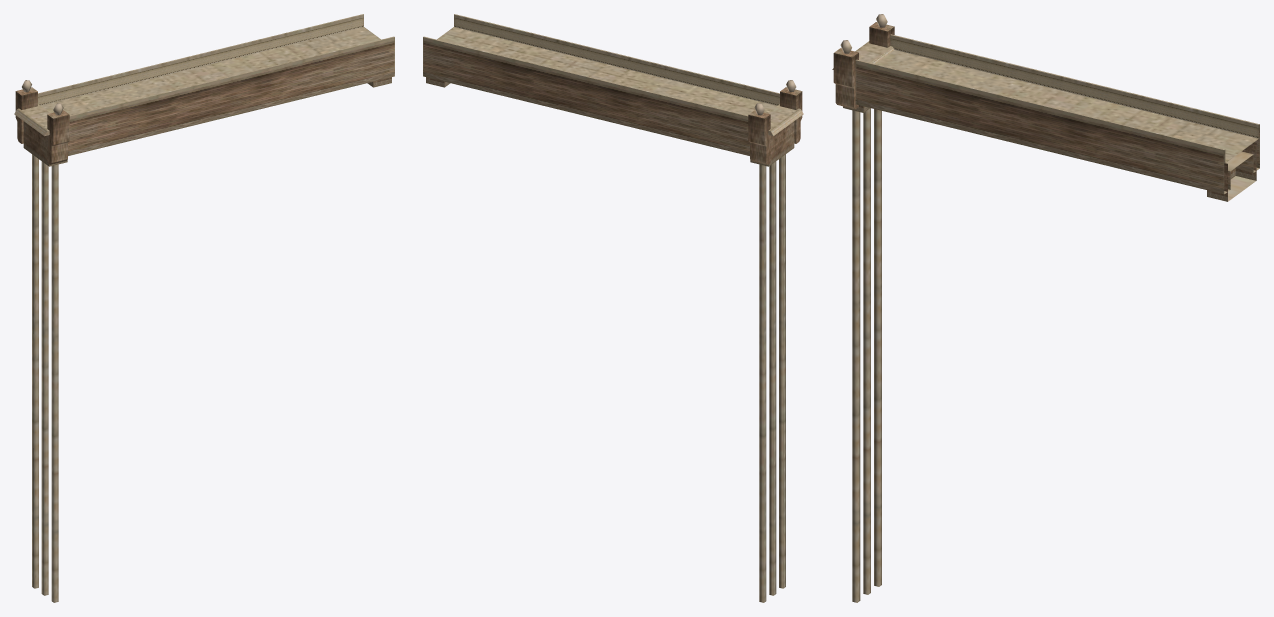
Rendered from thm_nboo_imprv_elevated_walkway_s03_l2.fbx.
The picture shows the model from 3 angles, left to right: view 1: azimuth 30°, elevation 25°; view 2: azimuth 150°, elevation 25°; view 3: azimuth 330°, elevation 25°; orthographic projection. The views are drawn at different scales.
Visible parts, largest first — view 1: mesh_node; view 2: mesh_node; view 3: mesh_node.
Boxes of the visible parts, x1,y1,x2,y2 form: mesh_node: (14, 14, 394, 602); mesh_node: (423, 14, 803, 602); mesh_node: (832, 14, 1259, 602).
Bounding box in the file's own units: 33.28 × 45.67 × 6.2.
